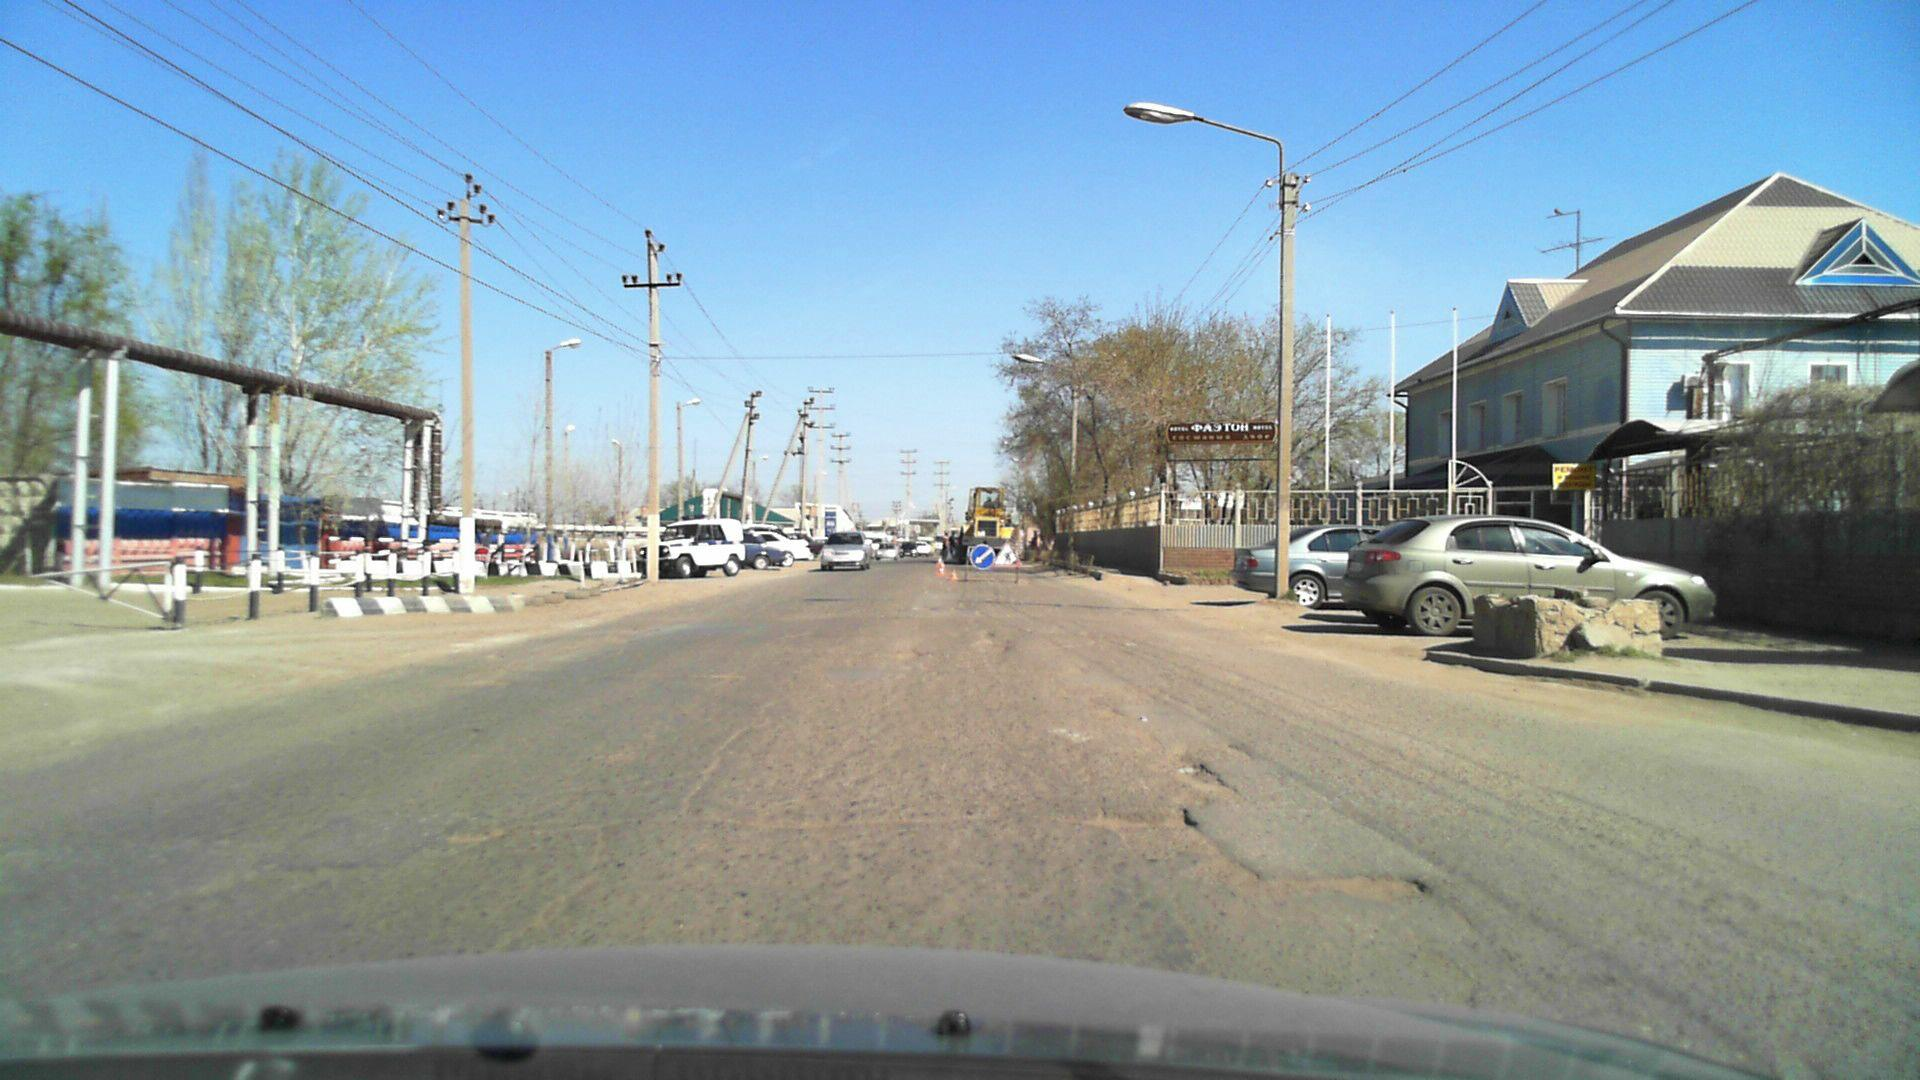1_25: (996, 543, 1025, 568)
4_2_2: (969, 545, 997, 572)
